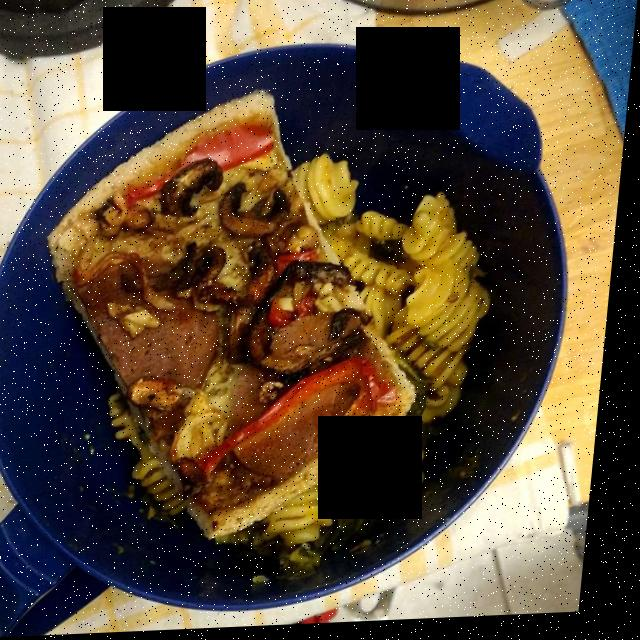pasta: (267, 155, 507, 549)
salt-cake-vegetables-filled: (47, 92, 436, 546)
